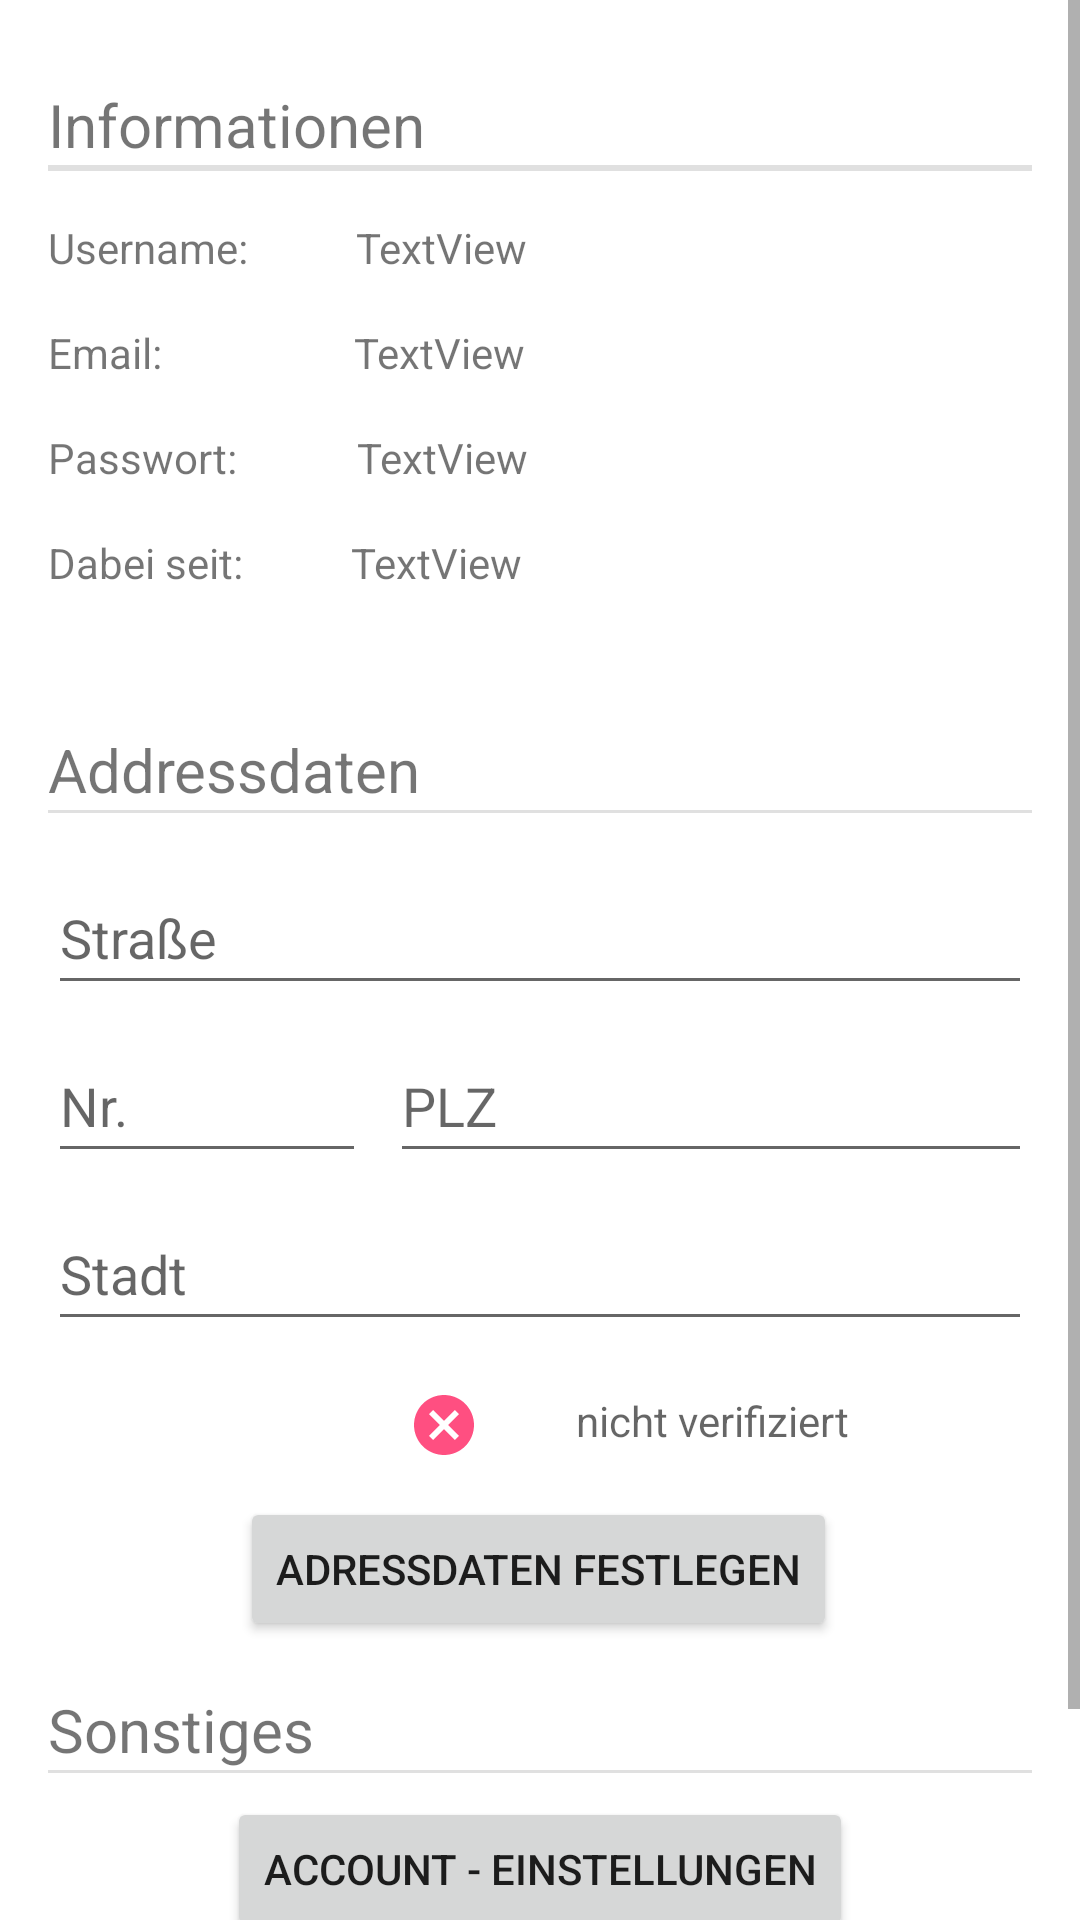

Icon bounding boxes for this 1080×1920 phone screenshot, format (x1, y1, x2, y2):
cancel: (414, 1395, 474, 1455)
